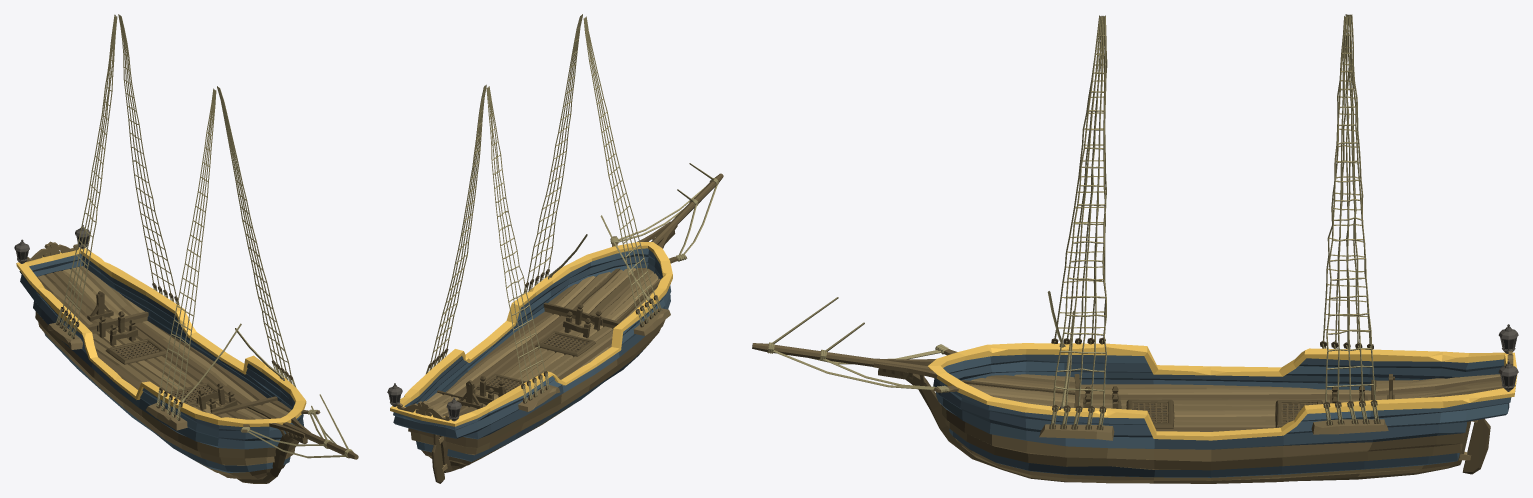
The model's file is MediumShip_1.fbx.
3 views of the same model, side by side, from view 1: azimuth 30°, elevation 25°; view 2: azimuth 150°, elevation 25°; view 3: azimuth 270°, elevation 25° (orthographic). The views are drawn at different scales.
Visible parts, largest first — view 1: MediumShip_1; view 2: MediumShip_1; view 3: MediumShip_1.
Part boxes in pixels (left/top/right/bottom): MediumShip_1: left=14, top=14, right=358, bottom=483; MediumShip_1: left=387, top=14, right=723, bottom=483; MediumShip_1: left=752, top=14, right=1518, bottom=483.
Bounding box in the file's own units: 691 × 1834 × 2717.
